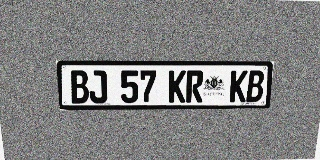5: (121, 70, 139, 103)
7: (139, 70, 156, 103)
B: (69, 70, 89, 103), (246, 70, 265, 102)
J: (88, 70, 107, 103)
K: (229, 70, 248, 102), (168, 70, 186, 103)
R: (186, 70, 204, 103)
